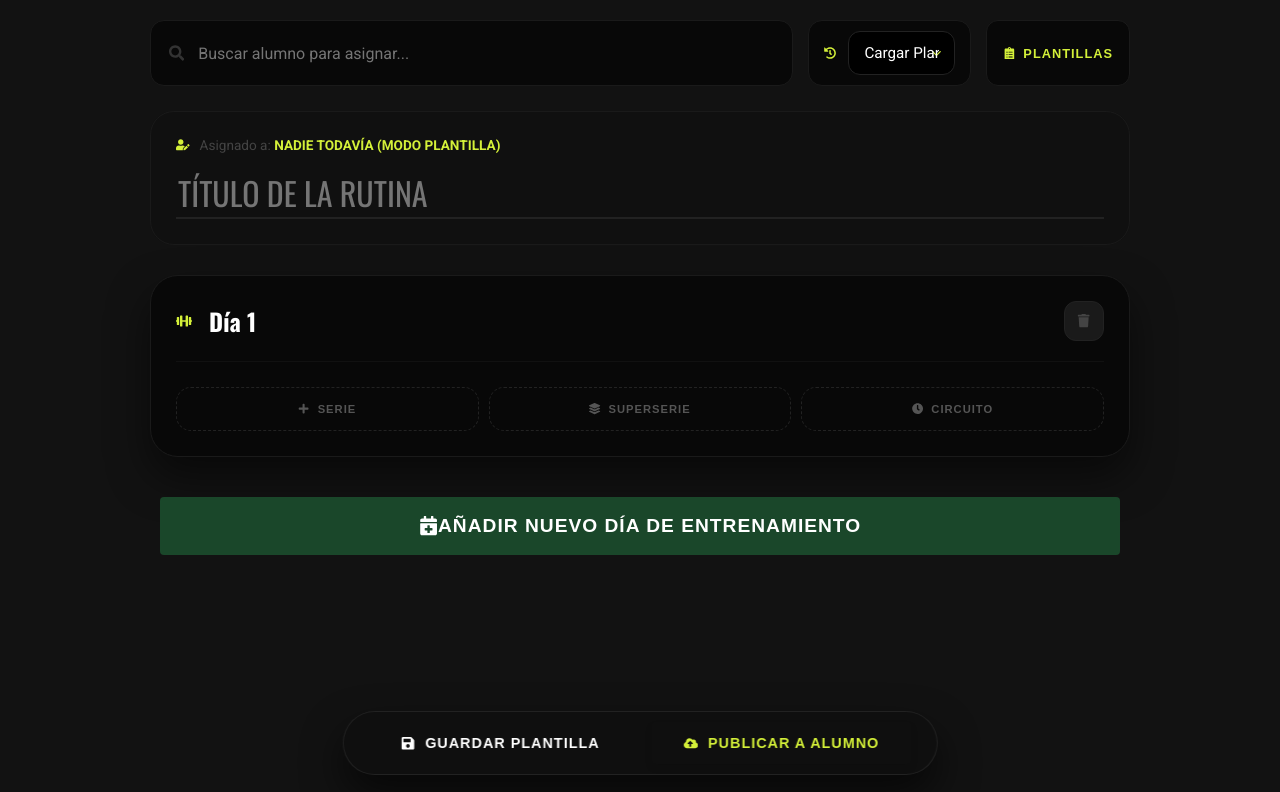
Scenario: AdminDashboard — construir un plan: días, bloques, ejercicios › borrar el único ejercicio de un bloque borra también el bloque (queda vacío)
Click the button "Serie" at (327, 409), box top-left (176, 387), bottom-right (479, 431)
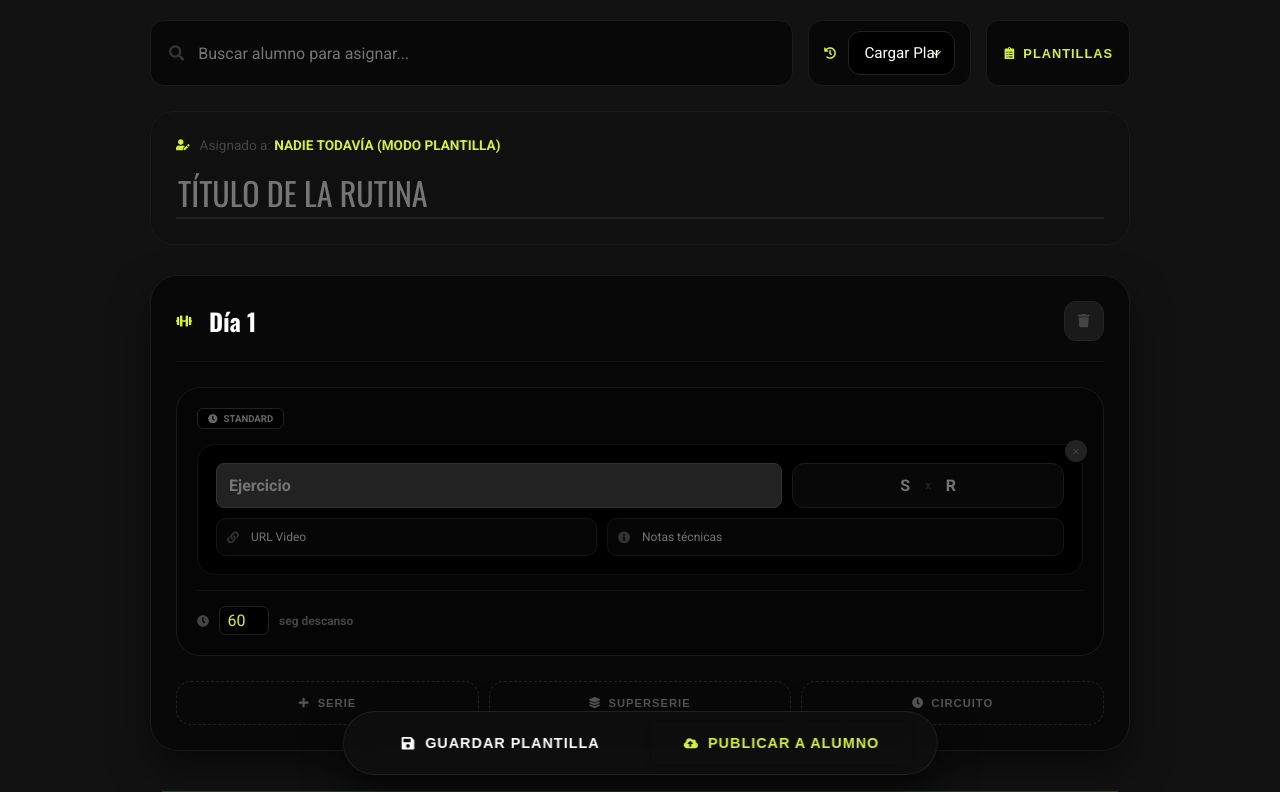
Expected: the text "STANDARD" is shown, top-left (197, 408), bottom-right (284, 429)
Click the button "×" at (1076, 451), box top-left (1065, 440), bottom-right (1087, 462)
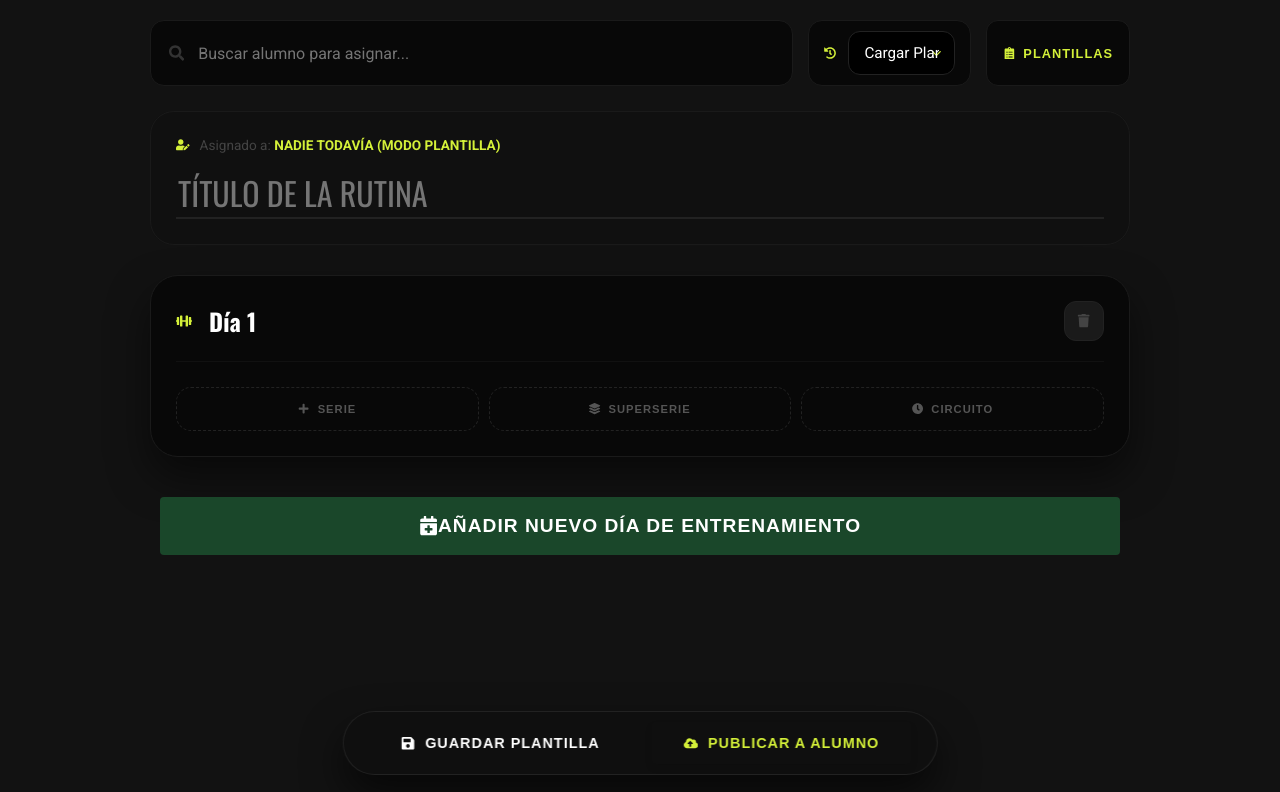
Expected: the text "STANDARD" is gone
